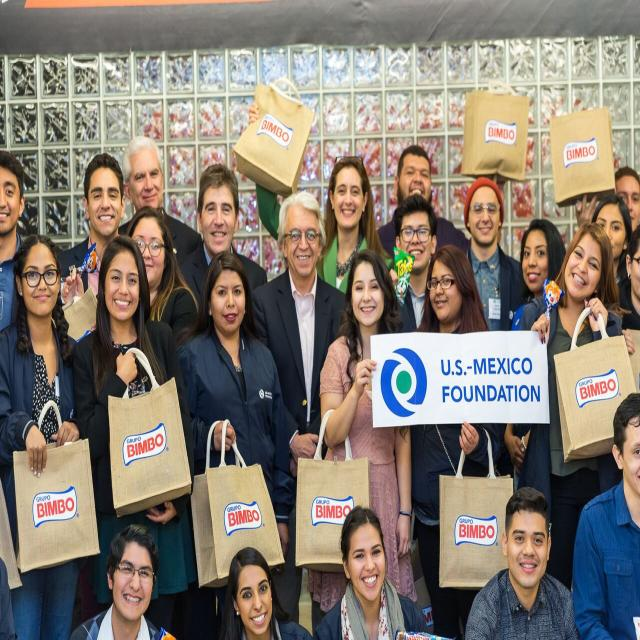body: (68, 230, 200, 640), (245, 183, 357, 639), (175, 250, 295, 590), (516, 220, 624, 590), (0, 230, 94, 640), (410, 242, 506, 640), (318, 246, 420, 614), (251, 92, 399, 298), (458, 175, 530, 476), (502, 218, 568, 498), (115, 135, 206, 338), (464, 485, 578, 640), (571, 390, 640, 640), (314, 503, 428, 639), (173, 161, 269, 302), (69, 522, 177, 640), (372, 140, 470, 261), (56, 150, 129, 303), (126, 206, 200, 345), (216, 546, 314, 640), (388, 192, 440, 332), (590, 191, 634, 314), (589, 194, 635, 302), (0, 148, 26, 337), (614, 222, 640, 356)
